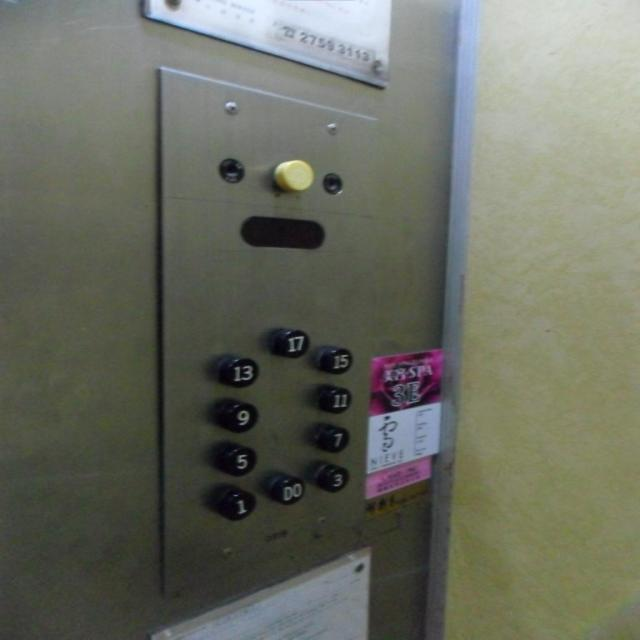1: (212, 484, 260, 521)
11: (314, 384, 355, 416)
13: (208, 349, 262, 390)
15: (312, 343, 353, 375)
17: (265, 326, 313, 361)
3: (310, 461, 352, 493)
5: (208, 441, 258, 478)
7: (309, 421, 350, 453)
9: (210, 397, 258, 434)
DO: (266, 473, 308, 506)
blur: (267, 158, 316, 196)
